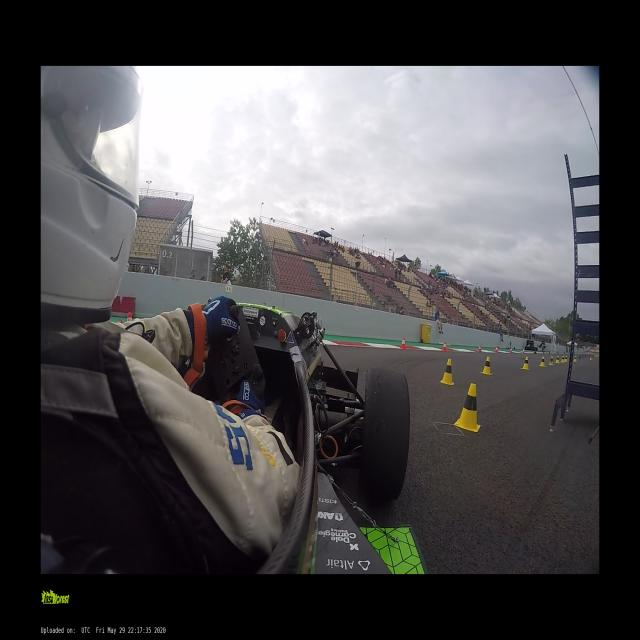orange_cone: (122, 311, 136, 339), (399, 339, 406, 349), (441, 343, 447, 352), (493, 345, 498, 354), (477, 345, 482, 353), (508, 346, 511, 354), (522, 348, 524, 354)
yellow_cone: (452, 384, 482, 434), (438, 358, 454, 387), (480, 356, 493, 376), (520, 357, 530, 371), (538, 356, 546, 368), (548, 355, 554, 366), (554, 355, 560, 363), (560, 355, 565, 363), (564, 355, 568, 362), (574, 356, 578, 362)
